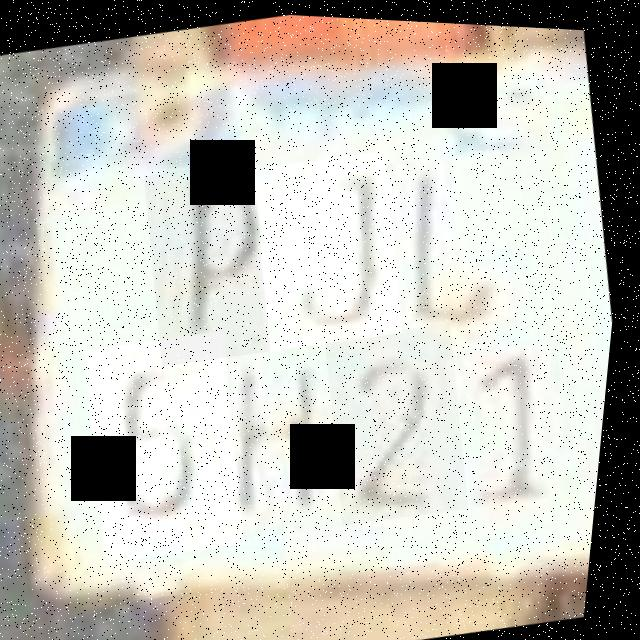2: (318, 313, 492, 527)
5: (75, 322, 271, 568)
J: (238, 140, 423, 354), (360, 116, 535, 335)
P: (133, 154, 292, 368)
